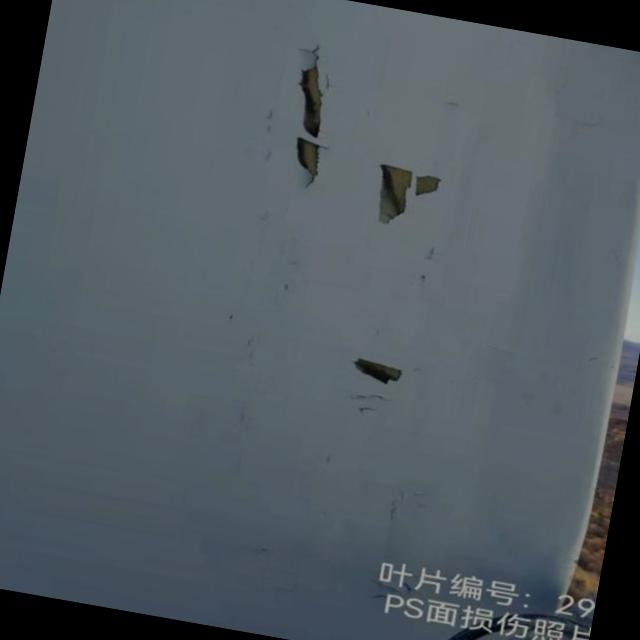surface_peeling: (273, 45, 352, 186), (360, 150, 449, 236), (344, 351, 410, 396)
